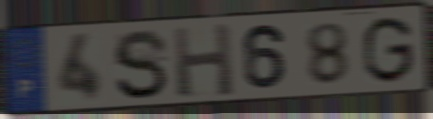4: (54, 28, 106, 107)
6: (242, 22, 289, 92)
8: (303, 20, 352, 86)
G: (361, 14, 416, 87)
H: (170, 21, 237, 100)
S: (111, 28, 171, 103)
